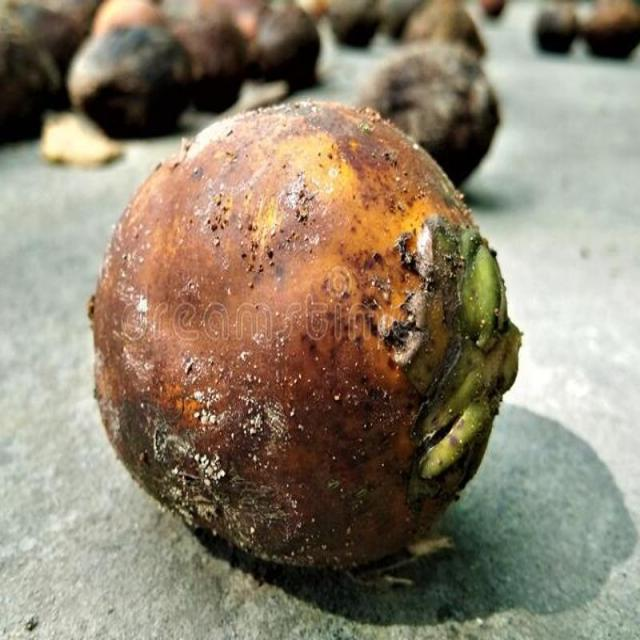damaged: (88, 102, 523, 579)
